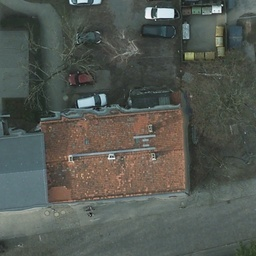car: (74, 93, 110, 110), (141, 23, 176, 40), (66, 70, 99, 86), (72, 30, 100, 46), (67, 0, 101, 5), (144, 0, 172, 2)
